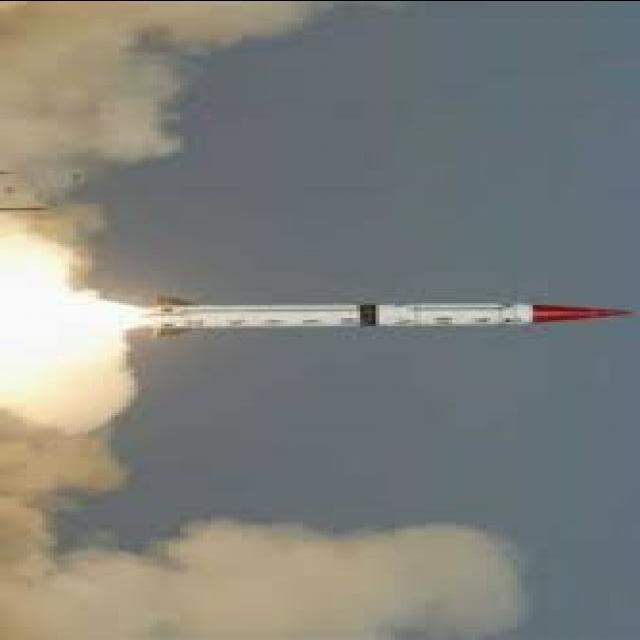missile: (152, 292, 636, 336)
